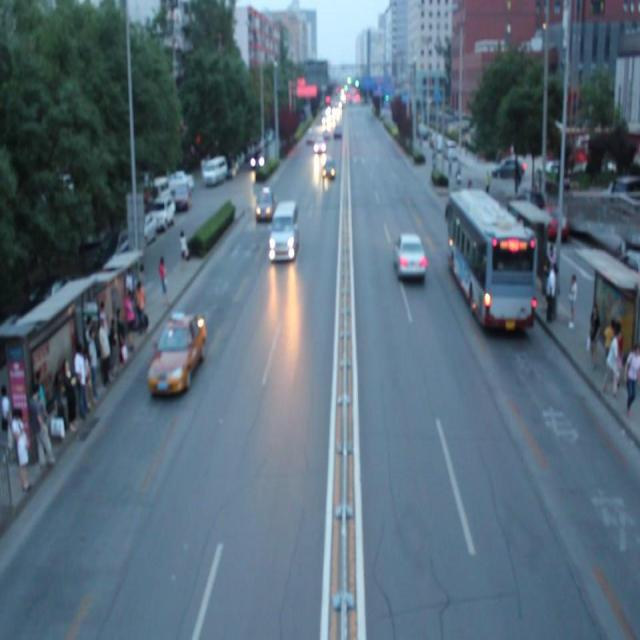car: (147, 306, 205, 396), (391, 229, 426, 281), (254, 184, 273, 219), (320, 154, 334, 180)
truck: (272, 200, 298, 262)
van: (445, 188, 535, 332)
